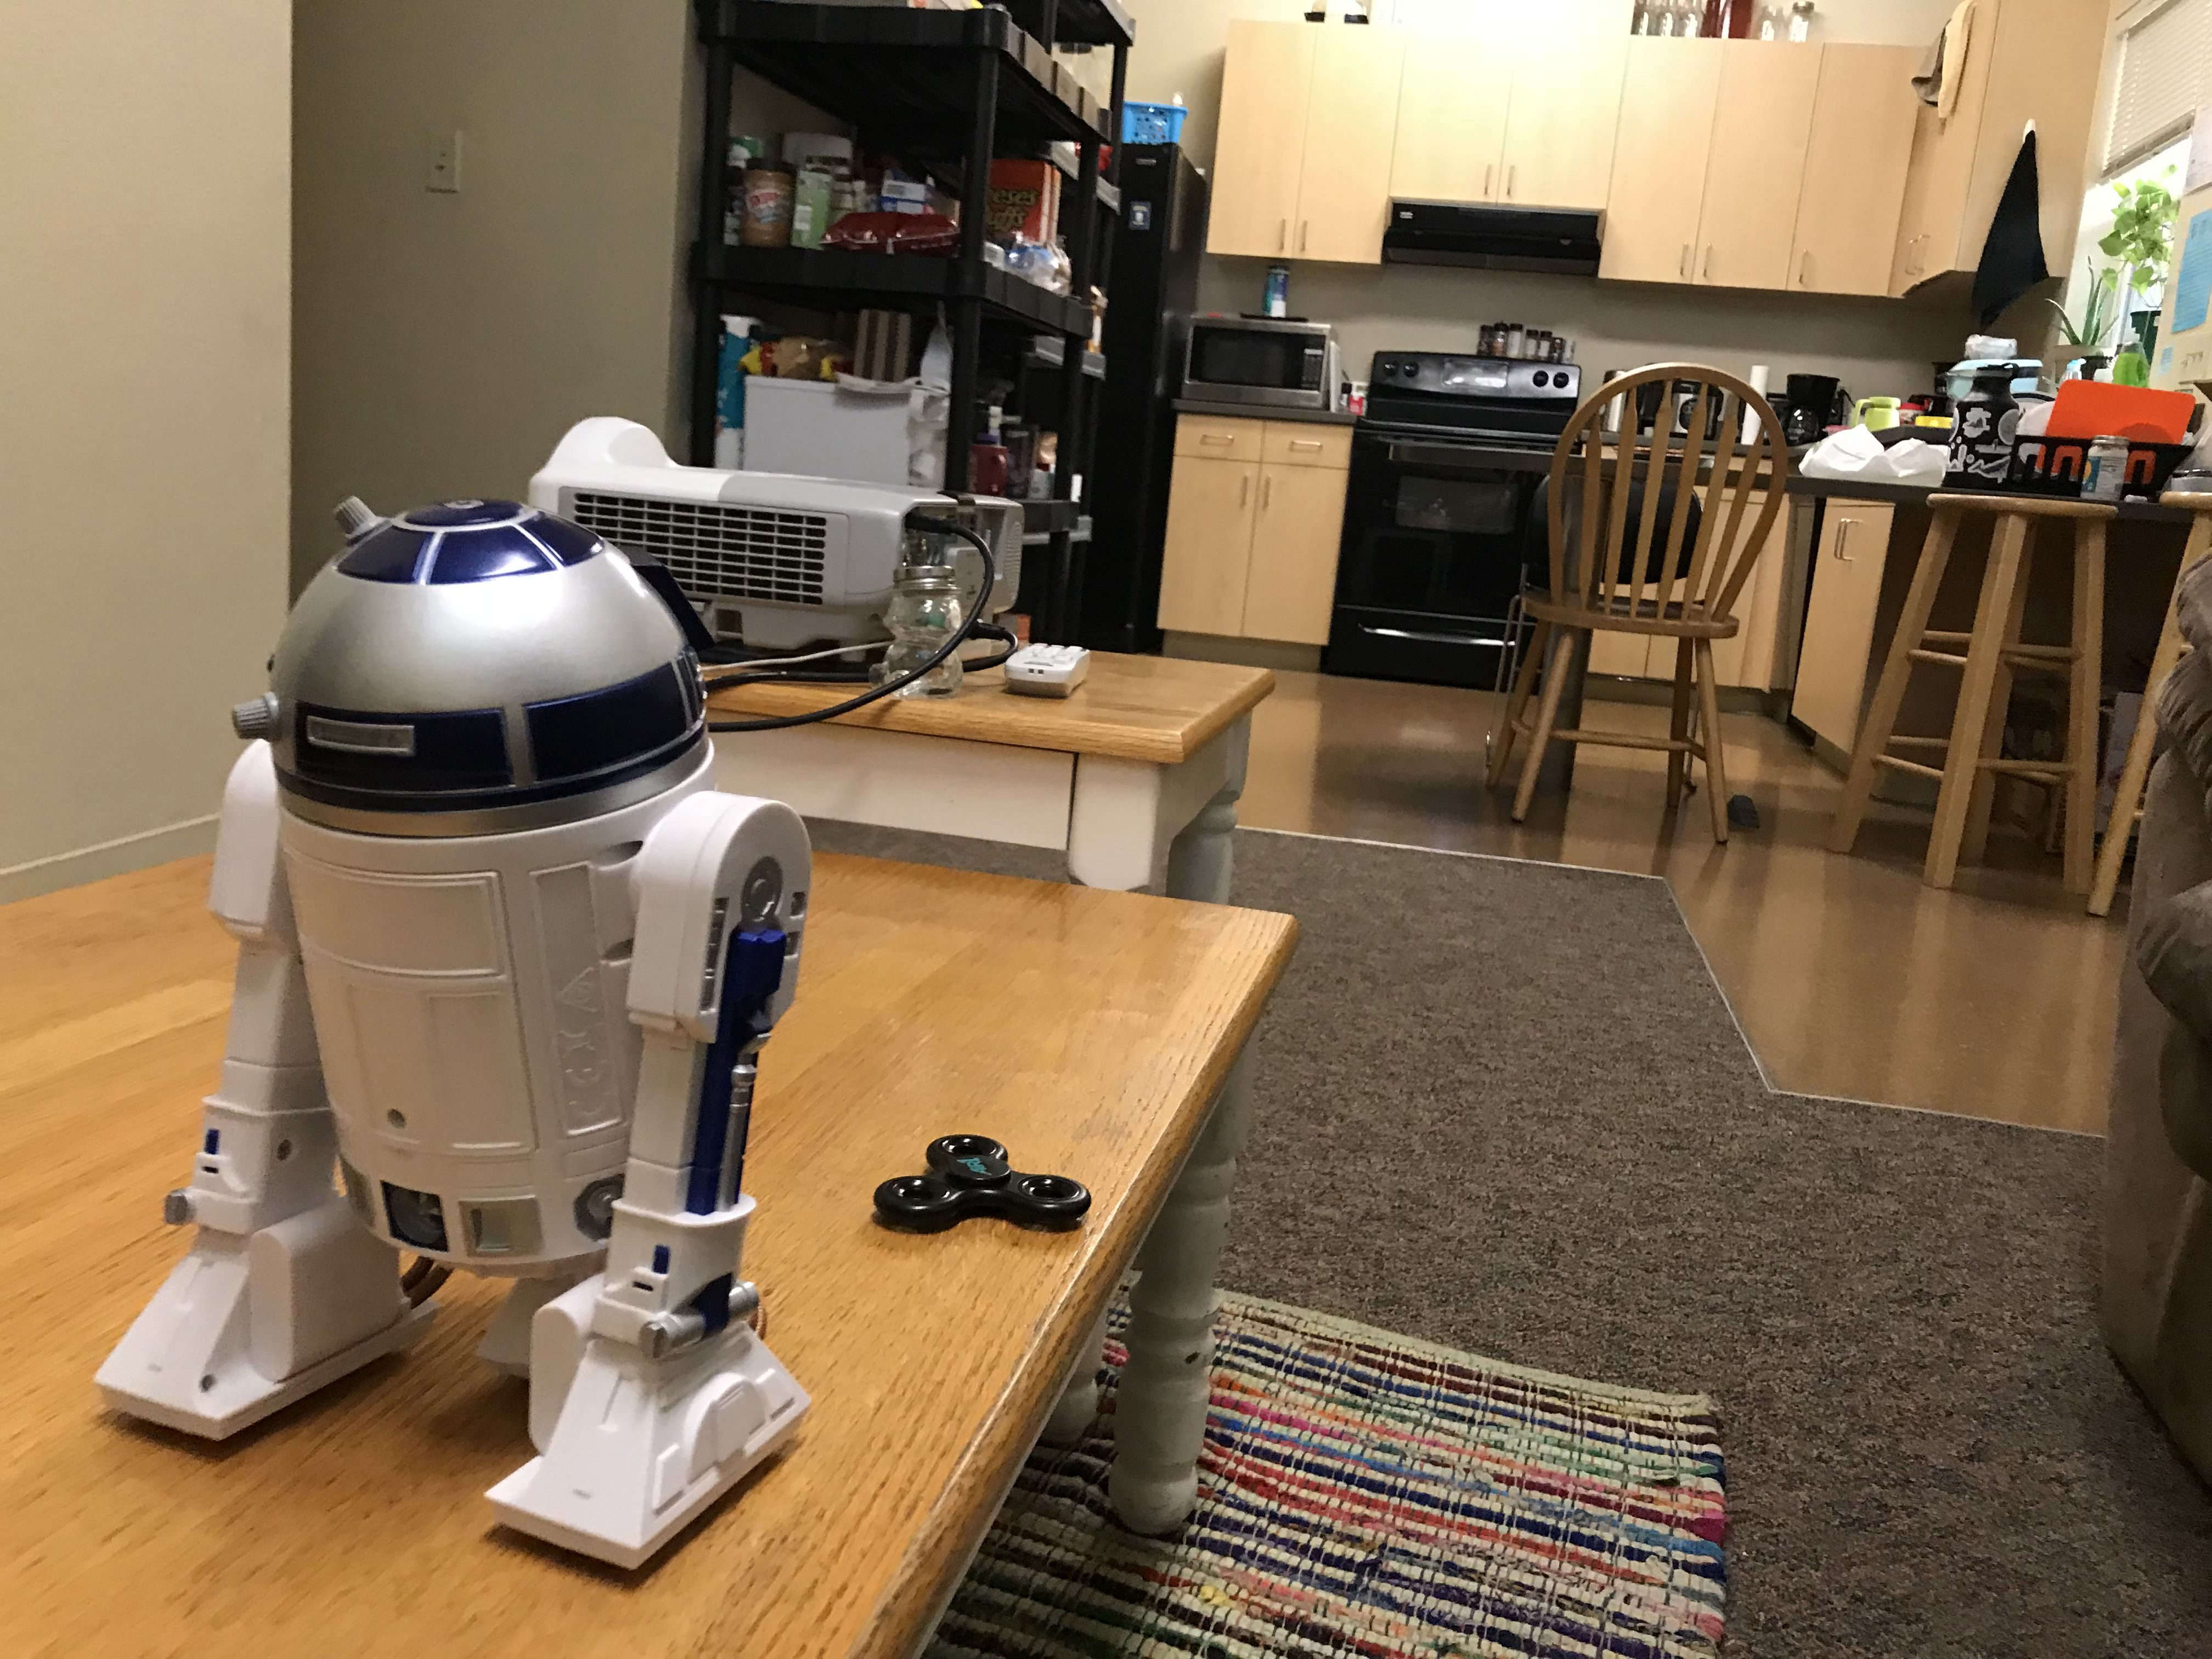r2d2: (98, 495, 810, 1570)
